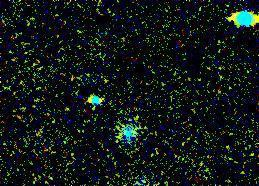star: (88, 67, 118, 97)
